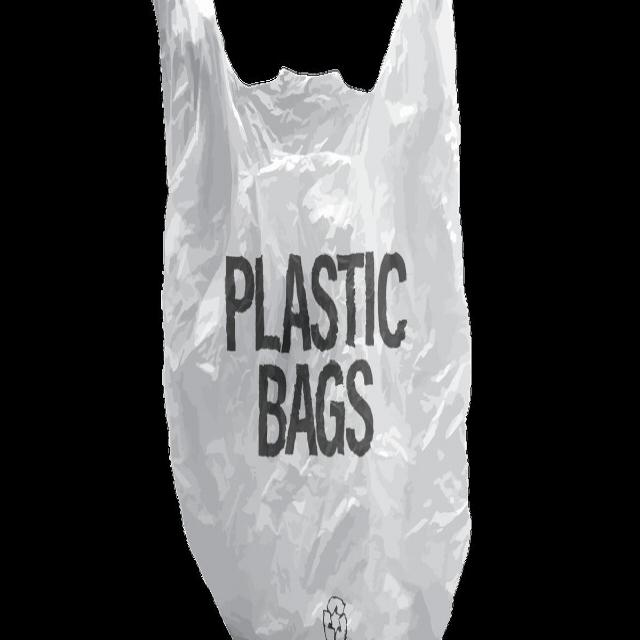plastic_bag: (154, 1, 478, 640)
